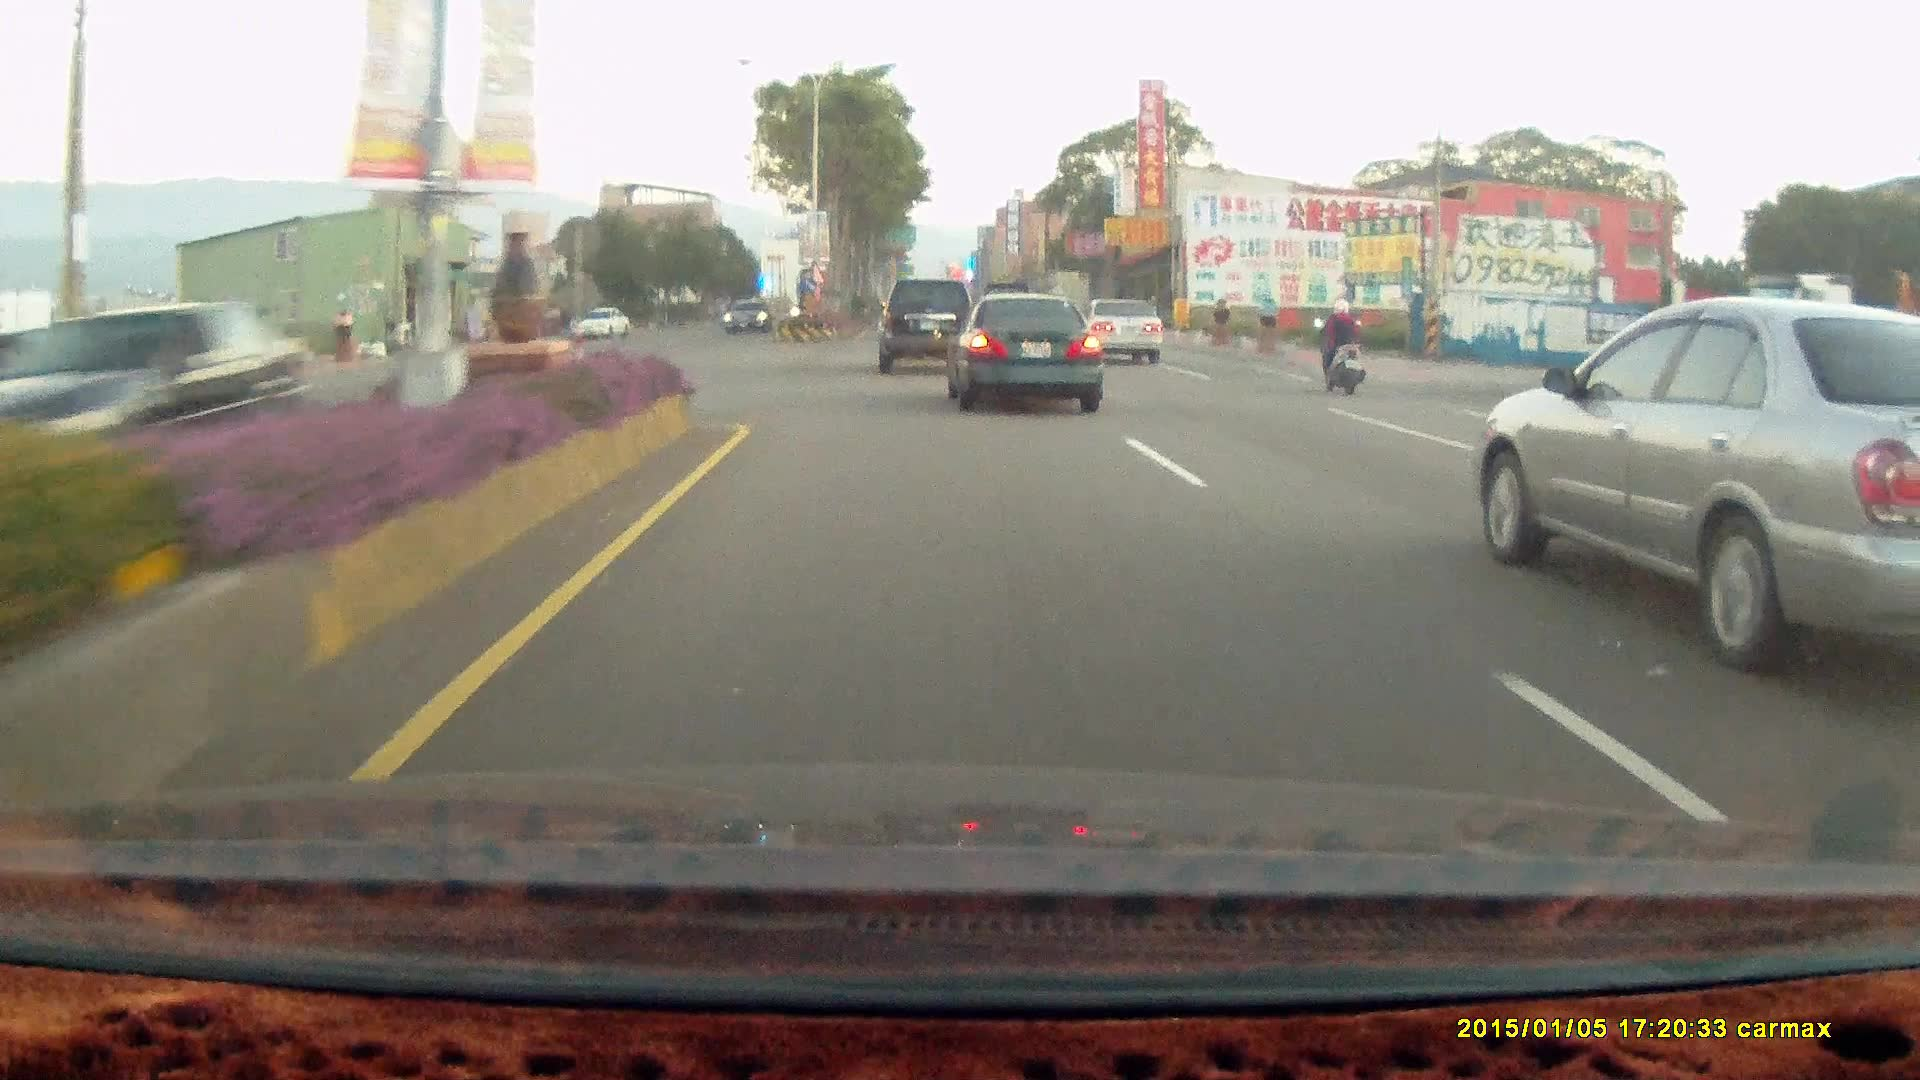rider: (1305, 288, 1376, 406), (1309, 297, 1365, 395)
vehicle: (1469, 303, 1920, 675), (0, 290, 310, 506), (934, 292, 1095, 411), (953, 296, 1112, 416), (880, 277, 981, 374), (876, 280, 974, 376), (1078, 297, 1165, 368), (1078, 296, 1163, 365), (571, 307, 634, 343), (568, 307, 631, 341), (721, 298, 774, 339), (721, 299, 772, 335)
